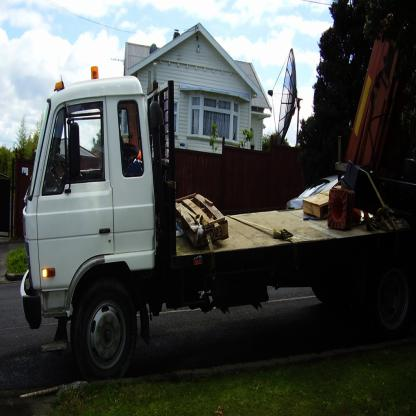Car: (286, 173, 347, 211)
Truck: (19, 105, 383, 366)
